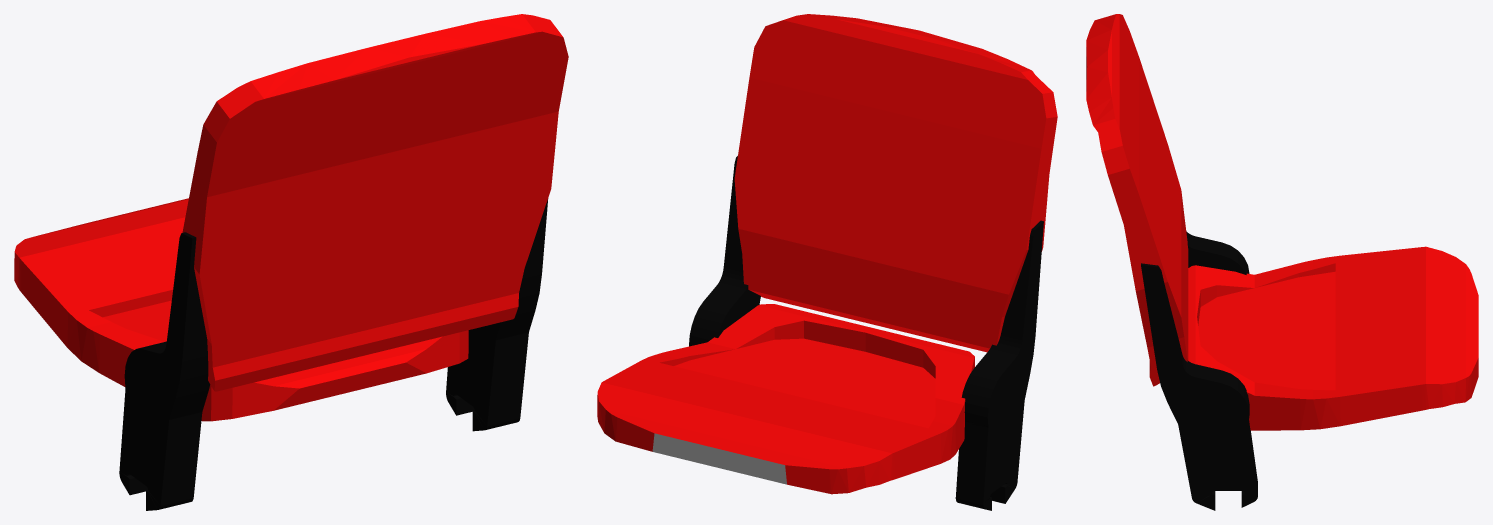
File: seat_north.glb
3 renders of one model, left to right at view 1: azimuth 30°, elevation 25°; view 2: azimuth 150°, elevation 25°; view 3: azimuth 270°, elevation 25°, orthographic. The views are drawn at different scales.
Visible parts, largest first — view 1: StaticModelFinal_m_1.3, StaticModelFinal_m_3.5; view 2: StaticModelFinal_m_1.3, StaticModelFinal_m_3.5, StaticModelFinal_m_2.4; view 3: StaticModelFinal_m_1.3, StaticModelFinal_m_3.5.
Part boxes in pixels (x1=…): StaticModelFinal_m_1.3: x1=14, y1=14, x2=568, y2=421; StaticModelFinal_m_3.5: x1=119, y1=198, x2=548, y2=510; StaticModelFinal_m_1.3: x1=597, y1=14, x2=1057, y2=494; StaticModelFinal_m_3.5: x1=689, y1=156, x2=1043, y2=510; StaticModelFinal_m_2.4: x1=652, y1=433, x2=786, y2=484; StaticModelFinal_m_1.3: x1=1086, y1=14, x2=1478, y2=430; StaticModelFinal_m_3.5: x1=1141, y1=231, x2=1257, y2=510.
Size of the model in its own units: 0.4454 by 0.5601 by 0.5232.
